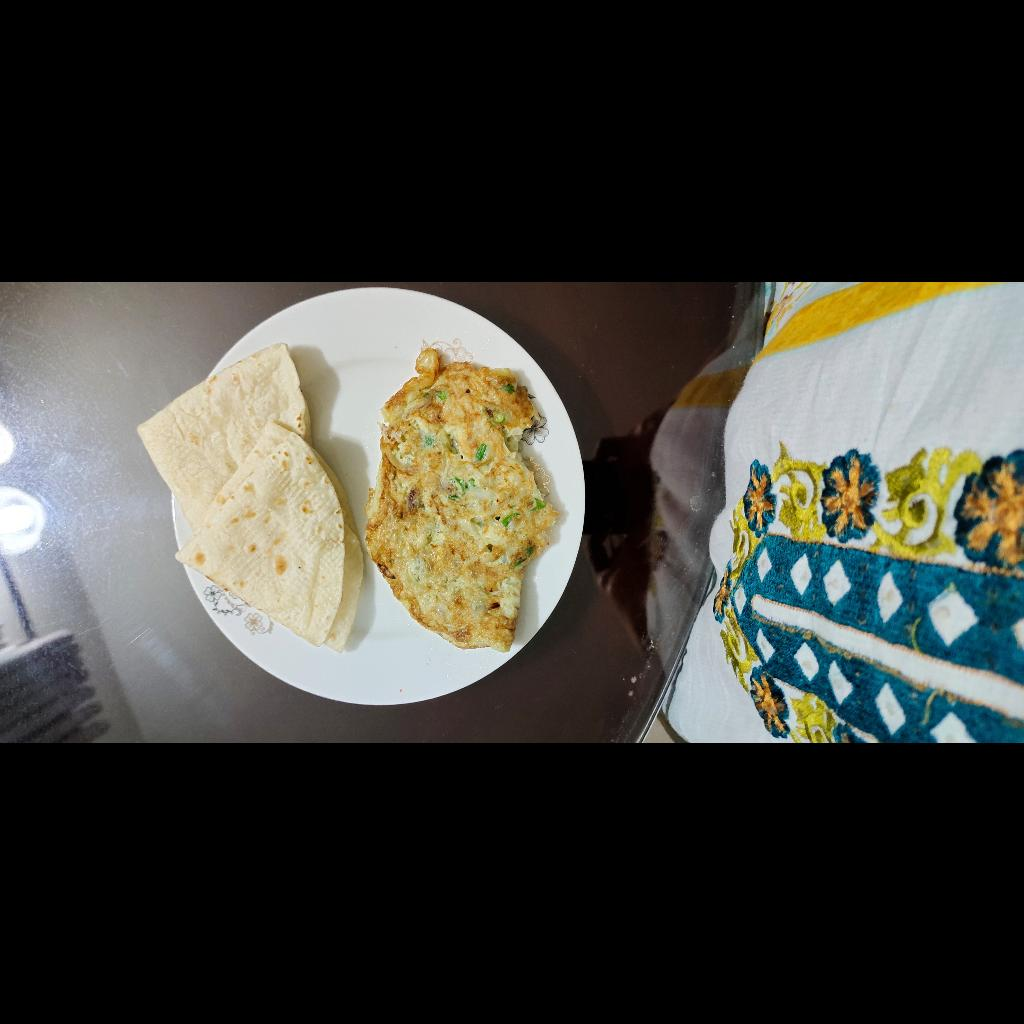egg-poached: (469, 369, 658, 673)
ruti: (660, 375, 890, 685)
